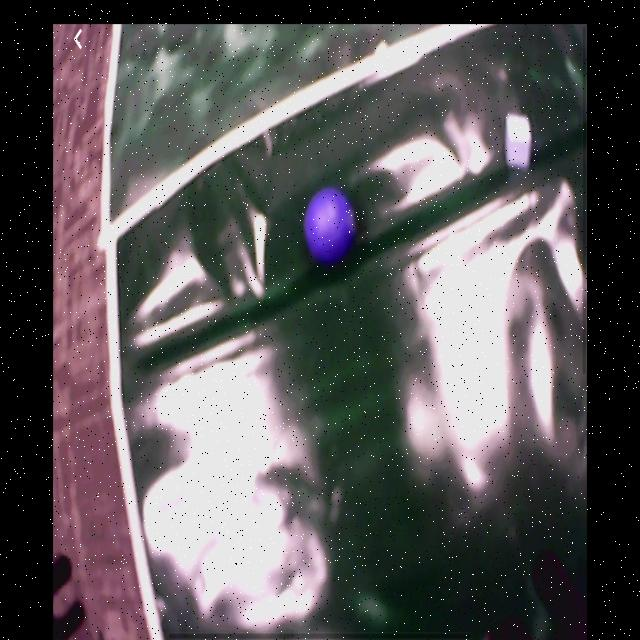ball: (305, 186, 353, 265)
